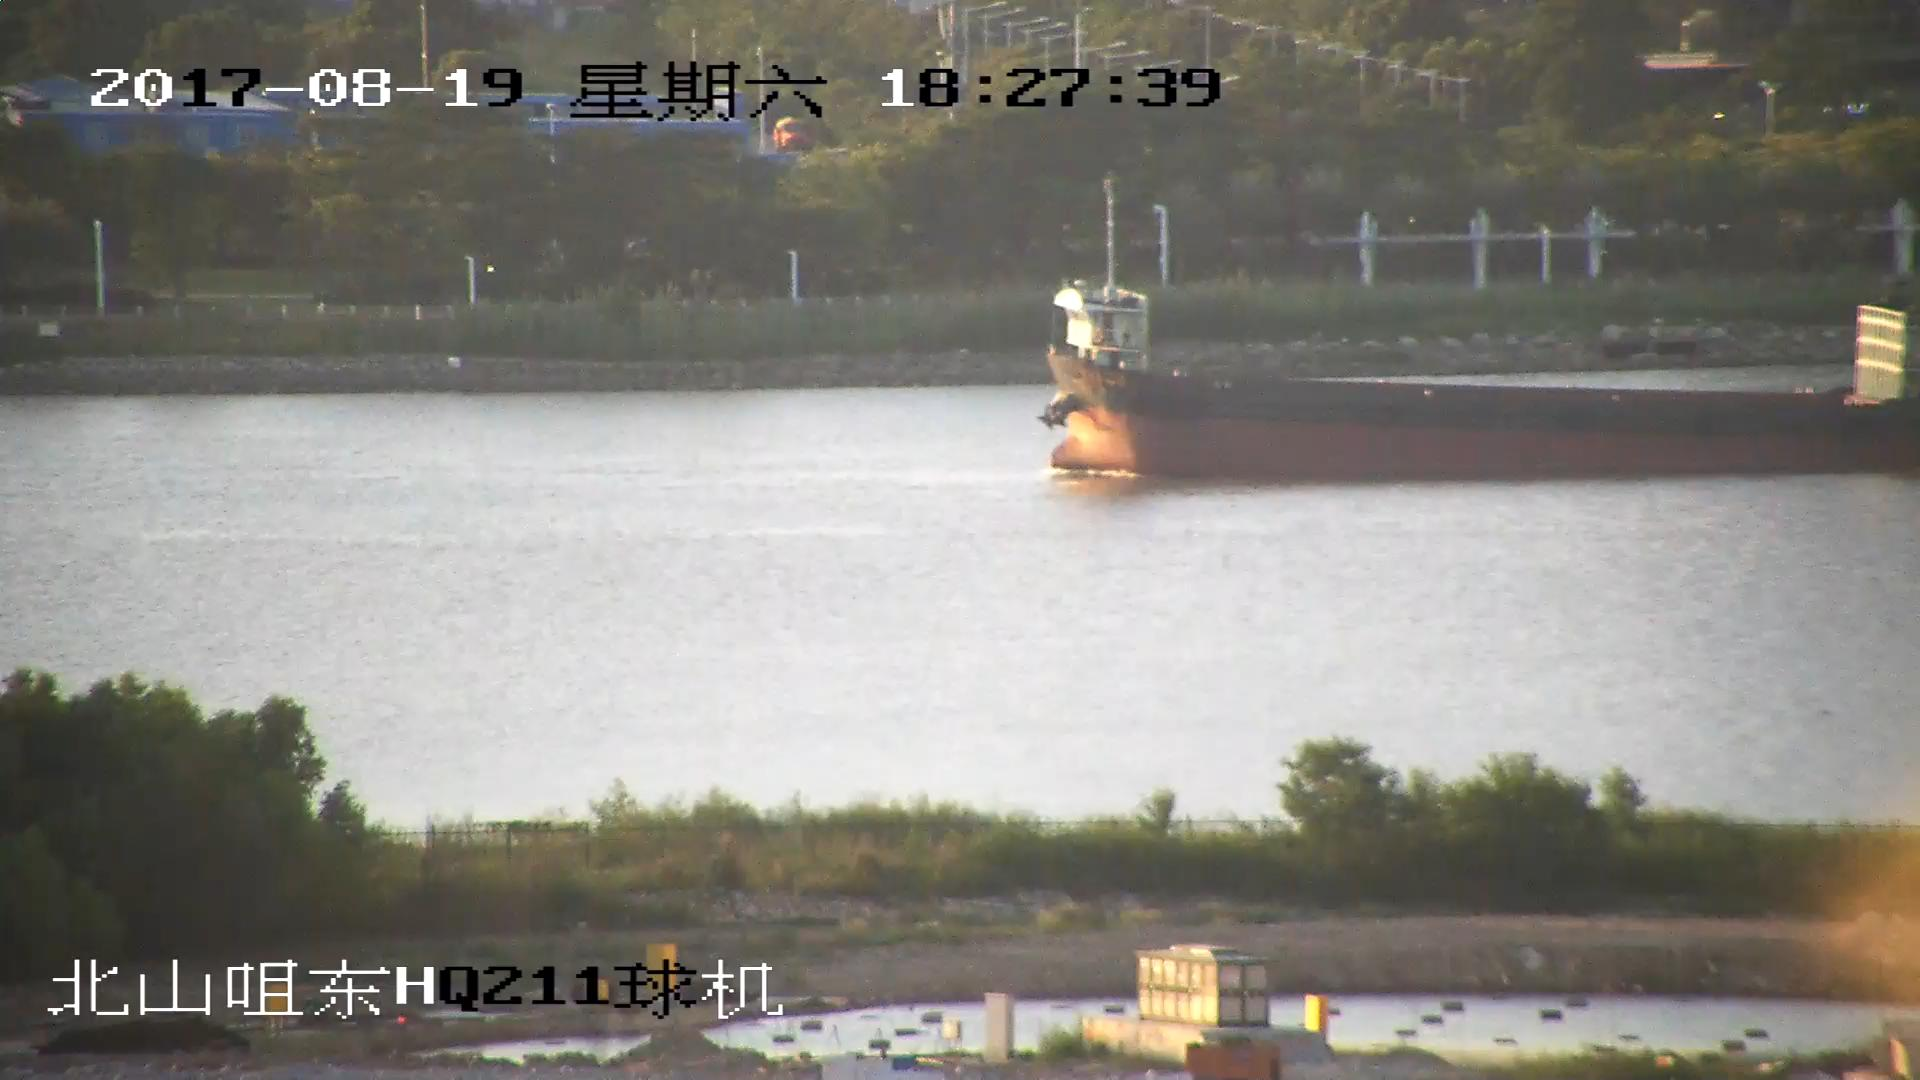general cargo ship: (1049, 283, 1920, 478)
